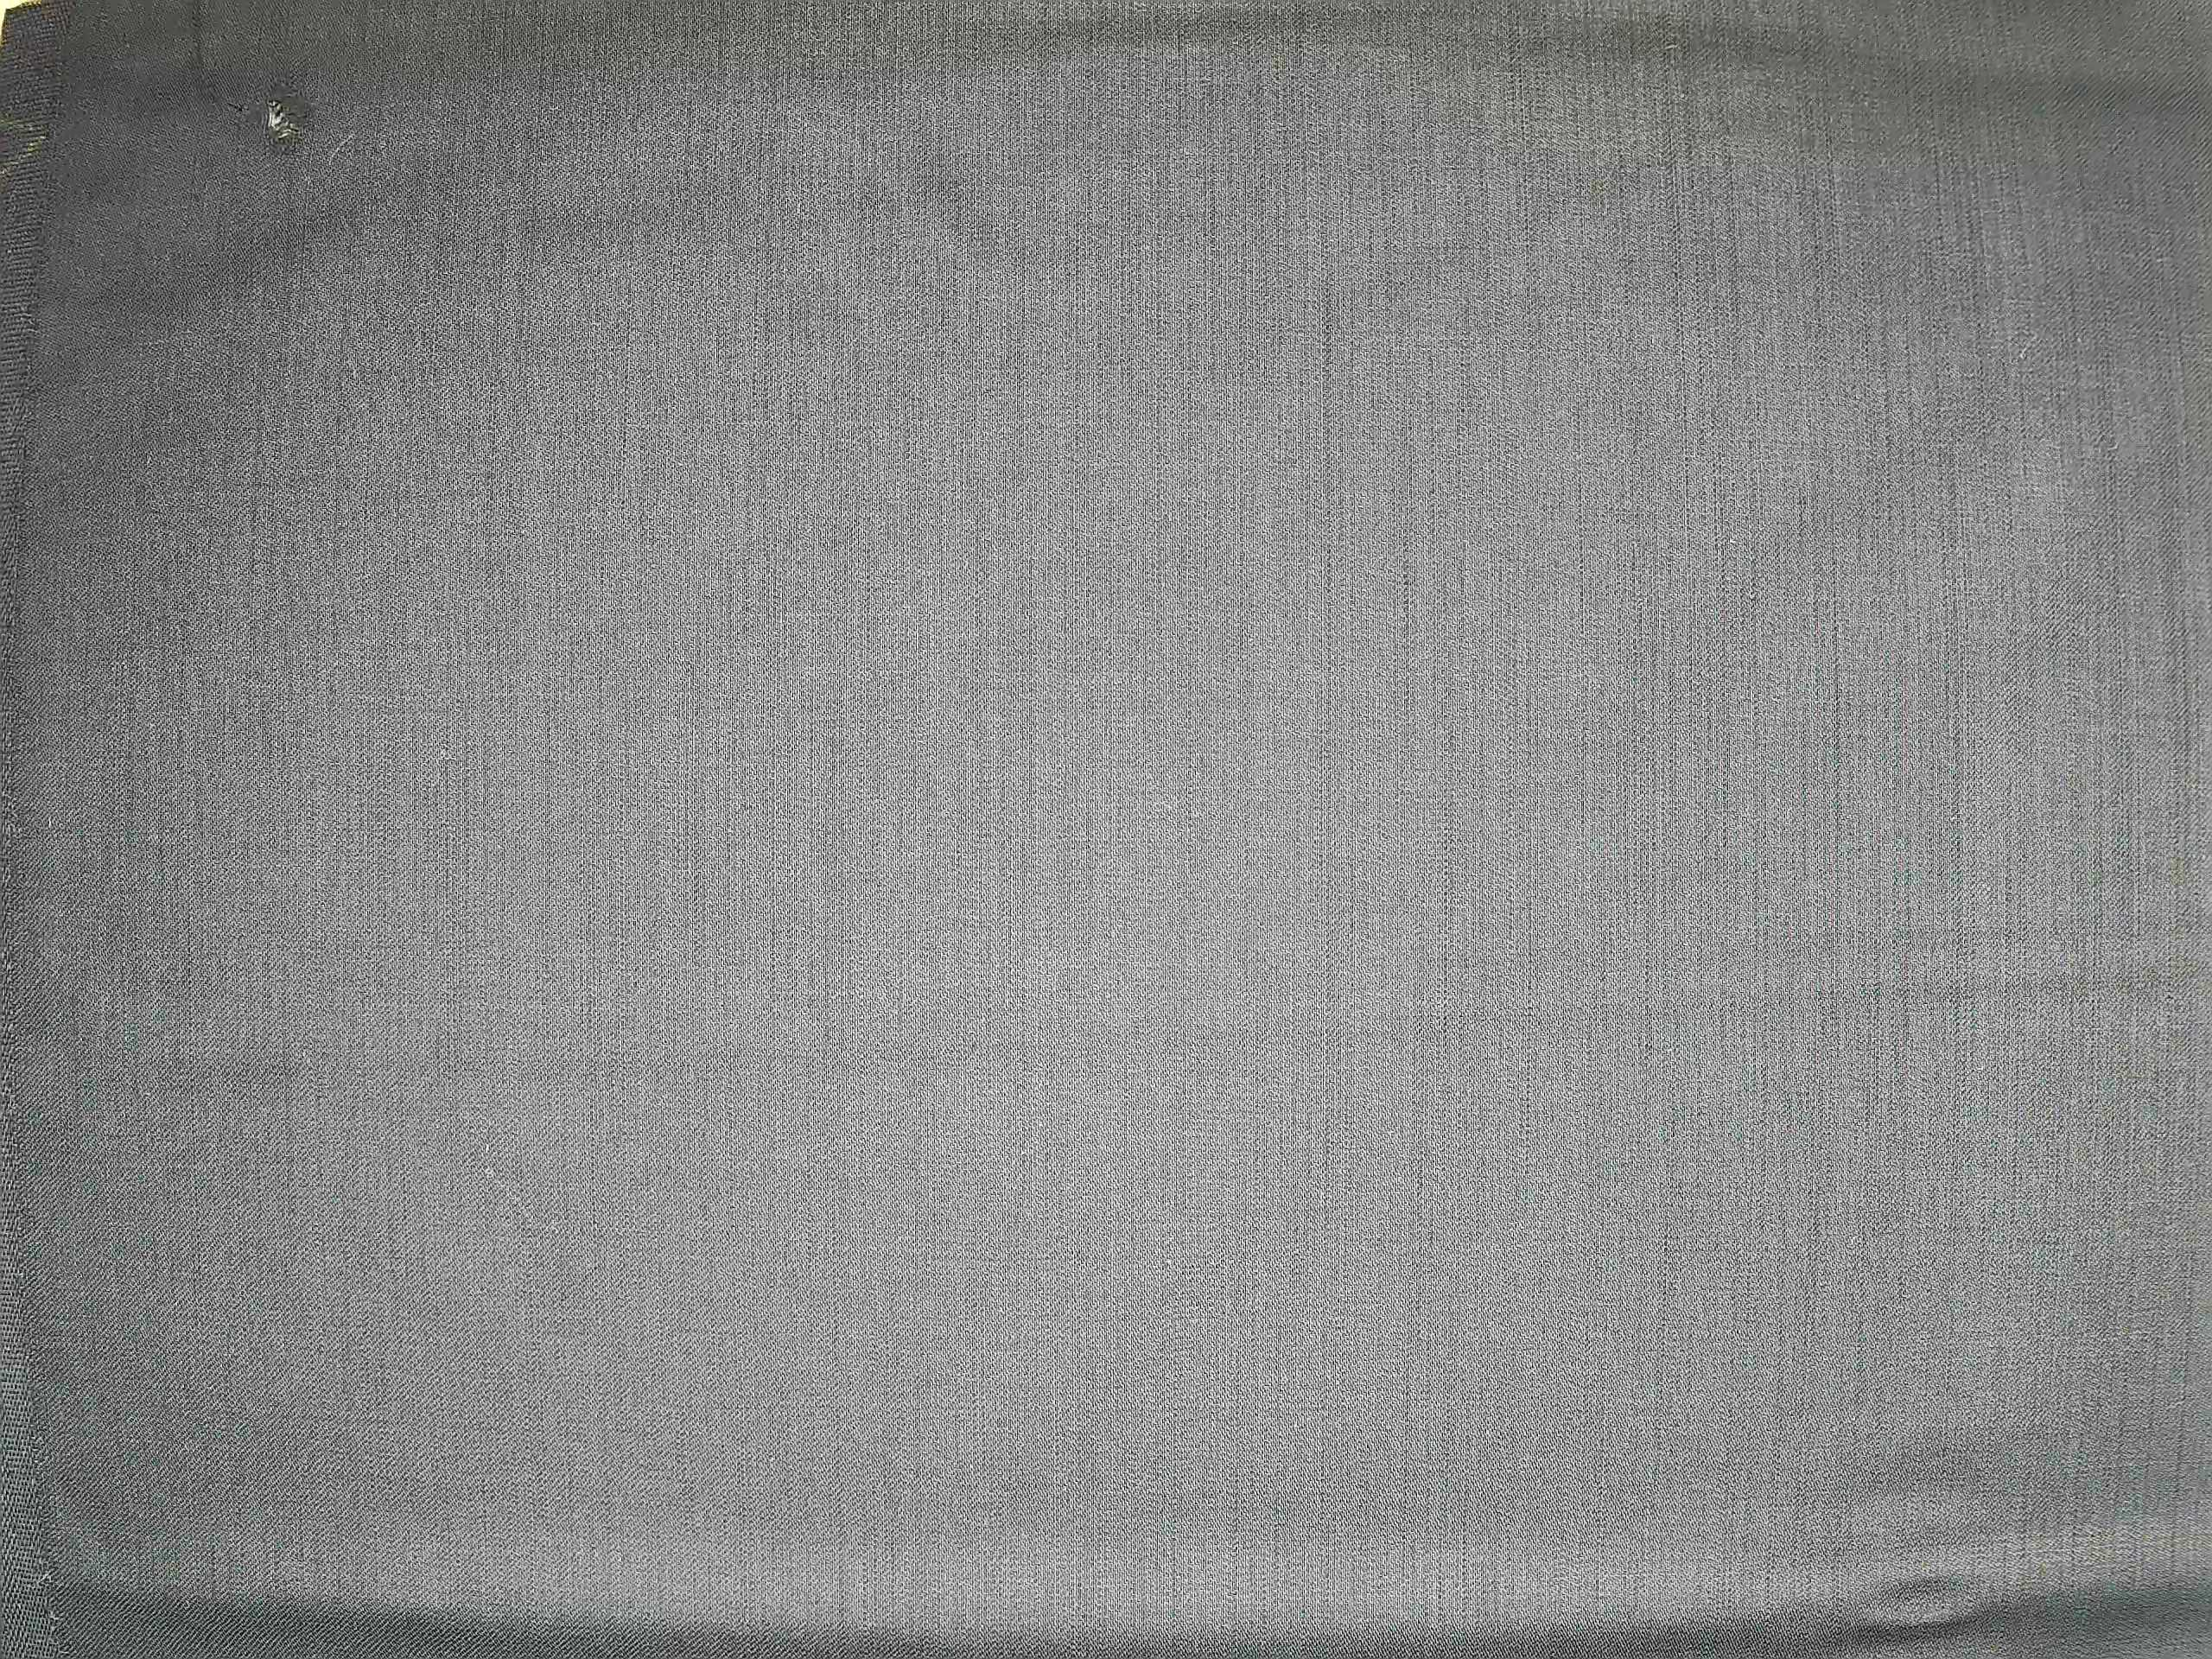rubbing-hole: (242, 80, 319, 152)
